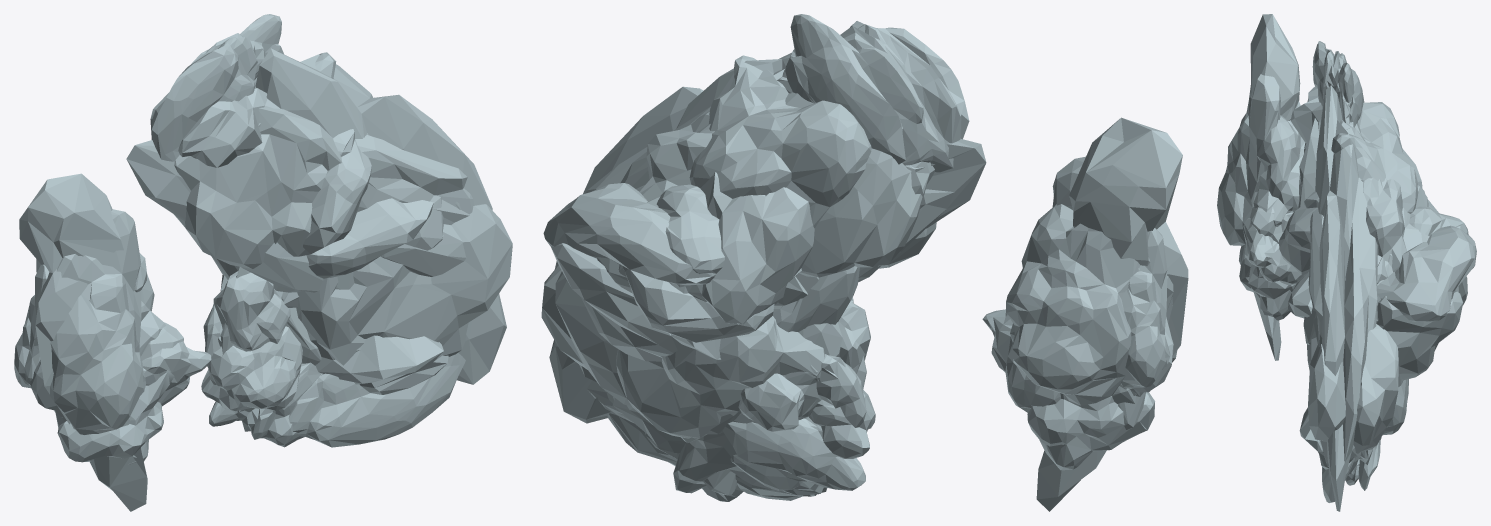
The model's file is Cloud_Ring_05.fbx.
The picture shows the model from 3 angles, left to right: view 1: azimuth 30°, elevation 25°; view 2: azimuth 150°, elevation 25°; view 3: azimuth 270°, elevation 25°; orthographic projection. The views are drawn at different scales.
Parts seen in each view (by area): view 1: Cloud_Ring_05; view 2: Cloud_Ring_05; view 3: Cloud_Ring_05.
Boxes of the visible parts, <box> form: Cloud_Ring_05: <box>14,14,512,511</box>; Cloud_Ring_05: <box>541,14,1188,511</box>; Cloud_Ring_05: <box>1217,14,1476,511</box>.
Bounding box in the file's own units: 39.56 × 32.57 × 19.7.
